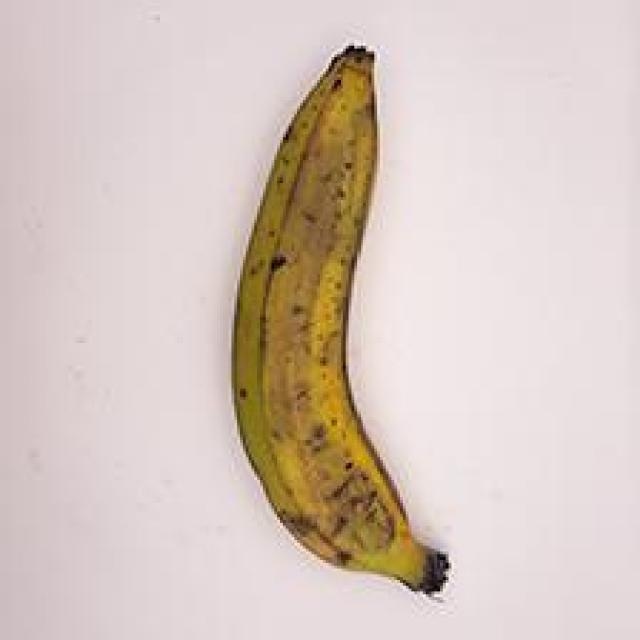Overripe: (196, 16, 482, 602)
